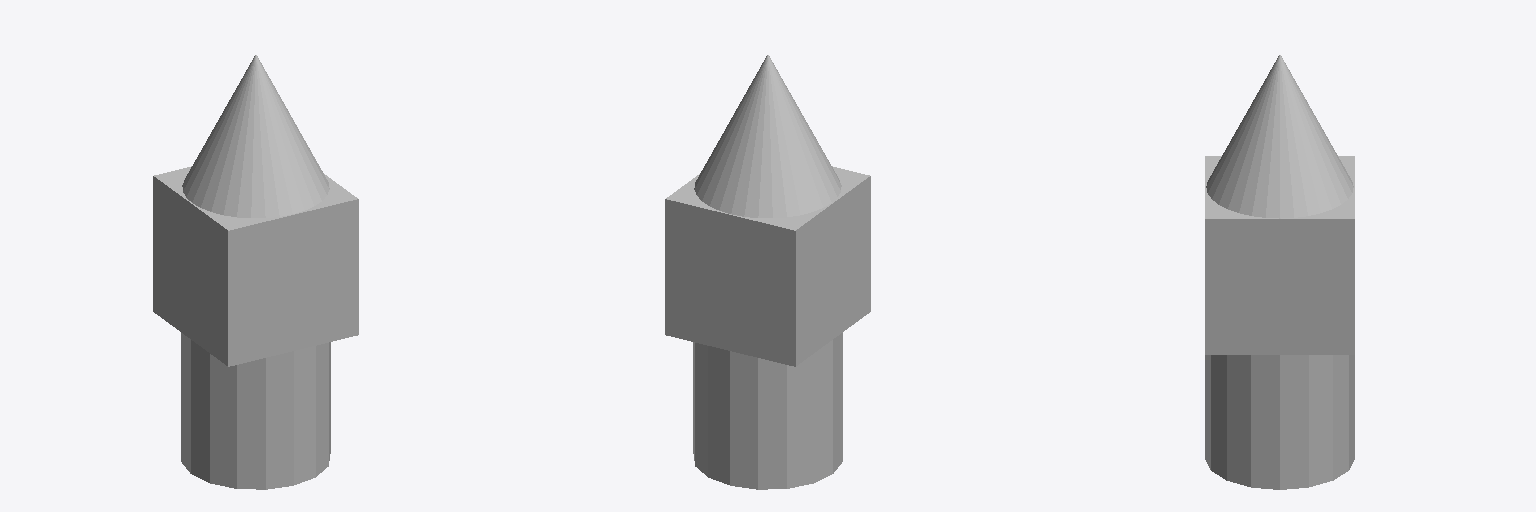
Rendered from mergefinal.obj.
3 renders of one model, left to right at view 1: azimuth 30°, elevation 25°; view 2: azimuth 150°, elevation 25°; view 3: azimuth 270°, elevation 25°, orthographic.
Visible parts, largest first — view 1: Cube_Cube.002, Cylinder.002_Cylinder.003, Cone; view 2: Cube_Cube.002, Cylinder.002_Cylinder.003, Cone; view 3: Cube_Cube.002, Cylinder.002_Cylinder.003, Cone.
Boxes of the visible parts, box(x1,y1,x2,y2) form: Cube_Cube.002: box(153, 166, 358, 366); Cylinder.002_Cylinder.003: box(181, 333, 330, 489); Cone: box(182, 55, 329, 217); Cube_Cube.002: box(665, 166, 870, 366); Cylinder.002_Cylinder.003: box(693, 333, 842, 489); Cone: box(694, 55, 841, 217); Cube_Cube.002: box(1205, 156, 1354, 354); Cylinder.002_Cylinder.003: box(1205, 355, 1354, 489); Cone: box(1206, 55, 1353, 218).
Size of the model in its own units: 2 by 5.94 by 2.